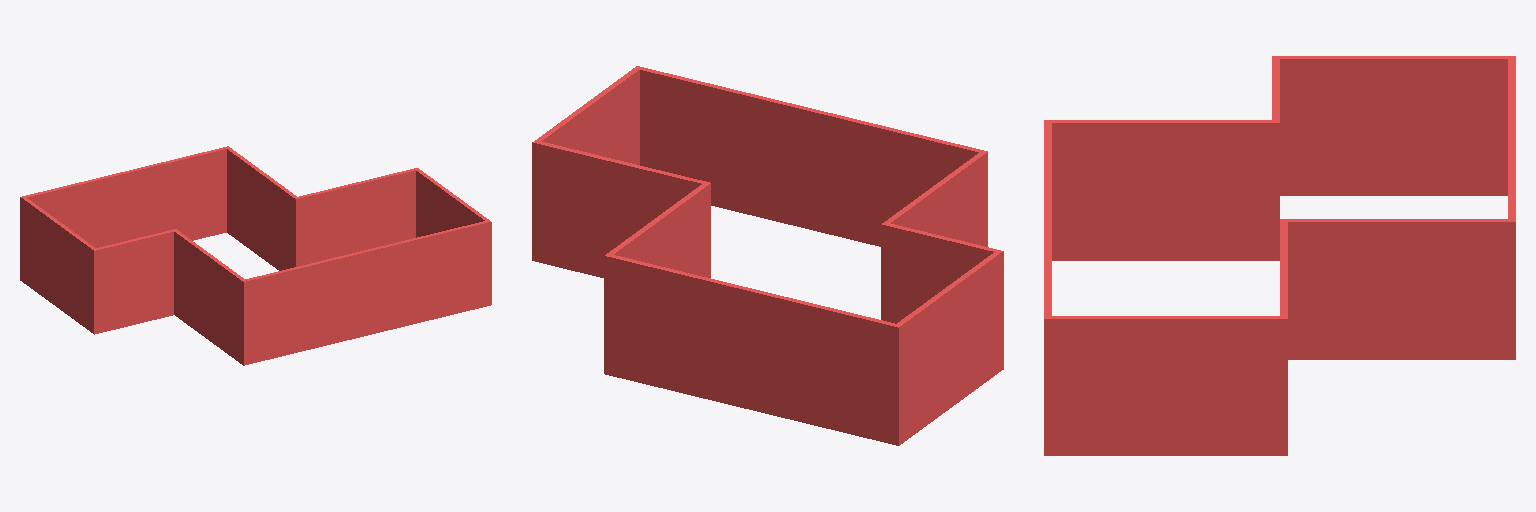
URDF robot description (two_corner_room.urdf):
<?xml version="1.0" ?>
<robot name="two_corner_room.urdf">
  <link concave="yes" name="baseLink">
    <inertial>
      <origin rpy="0 0 0" xyz="0.0 0.0 0.0"/>
       <mass value=".0"/>
       <inertia ixx="0" ixy="0" ixz="0" iyy="0" iyz="0" izz="0"/>
    </inertial>

    <visual>
      <origin rpy="1.57075 0 0" xyz="0 0 0"/>
      <geometry>
        <mesh filename="two_corner_room.obj" scale="1 1 1"/>
      </geometry>
       <material name="red">
        <color rgba="1 0.4 0.4 1"/>
      </material>
    </visual>

    <collision concave="yes">
      <origin rpy="1.57075 0 0" xyz="0 0 0"/>
      <geometry>
	 	    <mesh filename="two_corner_room.obj" scale="1 1 1"/>
      </geometry>
    </collision>
  </link>
</robot>

--- Render facts (derived) ---
The picture shows the robot from 3 angles, left to right: view 1: azimuth 30°, elevation 25°; view 2: azimuth 150°, elevation 25°; view 3: azimuth 270°, elevation 25°; orthographic projection.
Robot: two_corner_room.urdf — 1 links, 0 joints (none); root link baseLink; default pose: every joint at zero.
Links seen in each view (by area): view 1: baseLink; view 2: baseLink; view 3: baseLink.
Link boxes in pixels (x1,y1,x2,y2): baseLink: [20, 146, 491, 365]; baseLink: [532, 66, 1003, 445]; baseLink: [1044, 56, 1515, 455].
Bounding box of the posed robot: 8.2 × 6.2 × 2 m (x, y, z).
Meshes: 1 distinct files referenced, 1 mesh visuals loaded (1 OBJ).